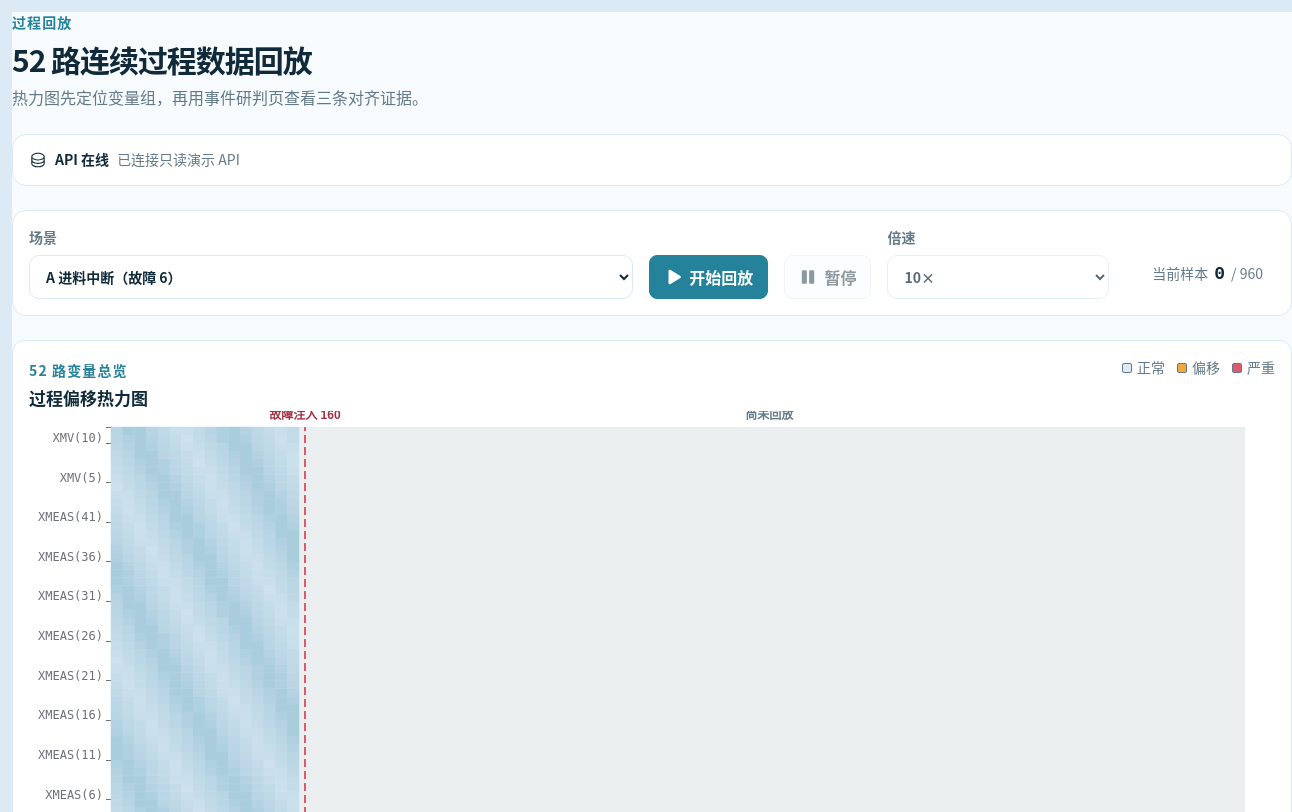
it: 回放控制 › 使用场景样本总数并在末尾停止回放
What coordinates should you click on to do the following:
click the button "开始回放"
I would click on:
 (709, 277)
Its box is [649,255,768,299].
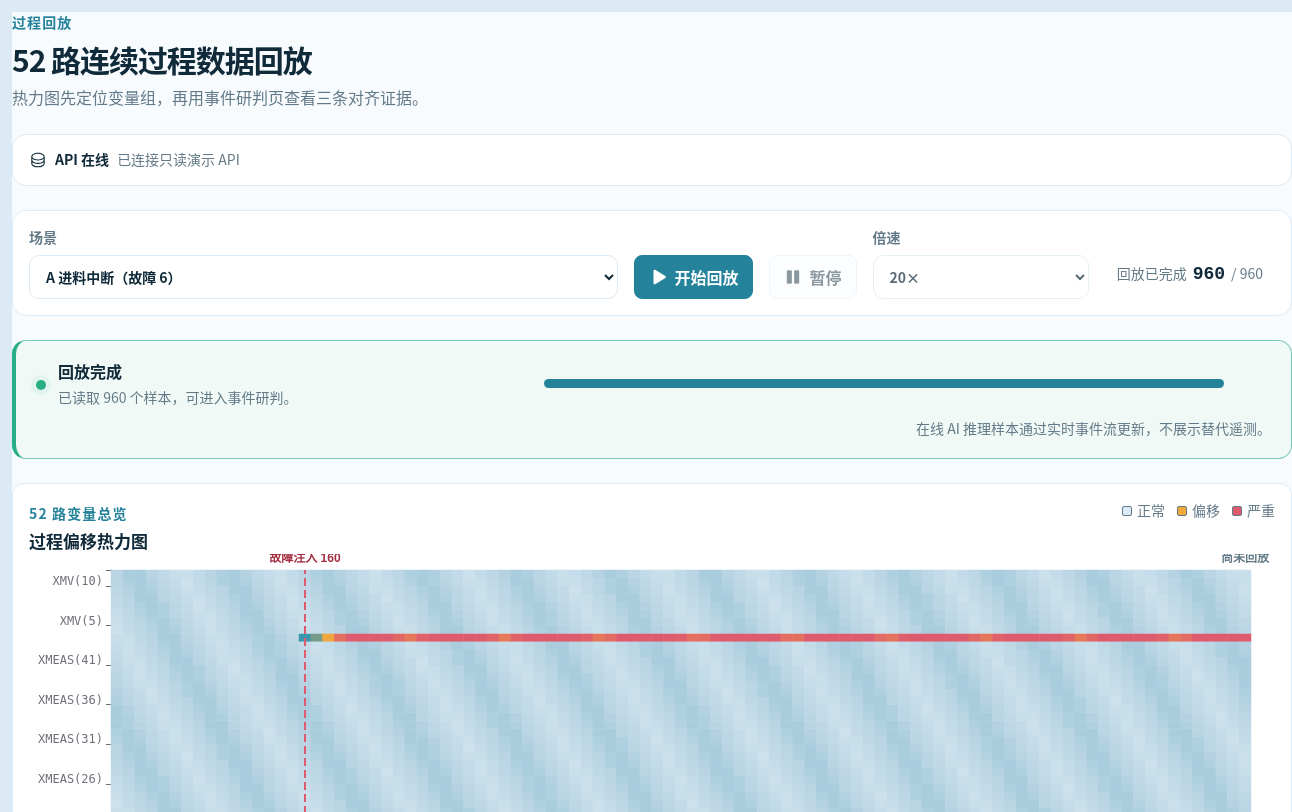
Expected: the text "/ 960" is shown, [1231,263,1263,285]
Expected: the text with test id "current-sample" reads "960", [1193,264,1225,284]
Expected: the text "回放已完成" is shown, [1117,263,1187,285]
